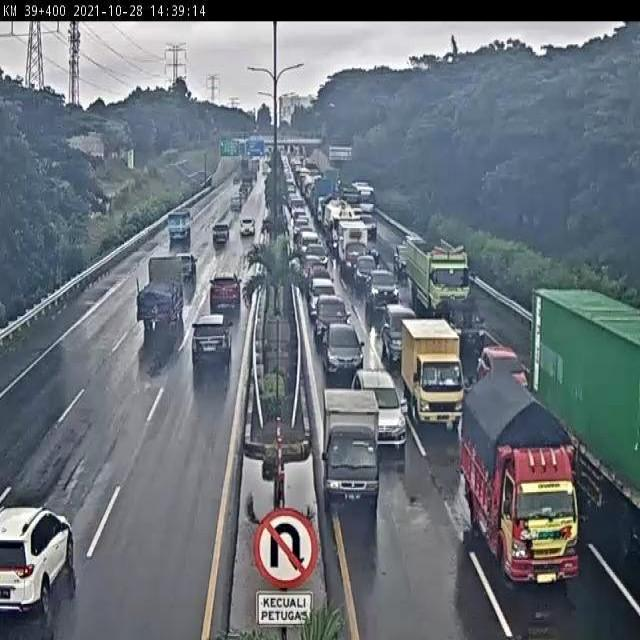big truck: (520, 276, 640, 545), (402, 230, 480, 334)
car: (0, 465, 80, 640), (348, 365, 413, 451), (468, 338, 532, 393), (320, 316, 368, 385), (188, 308, 236, 372), (439, 296, 486, 357), (373, 296, 415, 360), (204, 264, 248, 319), (310, 294, 350, 346), (366, 266, 403, 314), (206, 218, 233, 254), (237, 212, 259, 247)
mid truck: (450, 356, 589, 593), (393, 312, 458, 429), (130, 248, 188, 337), (163, 204, 198, 247)
small truck: (316, 373, 386, 512)
